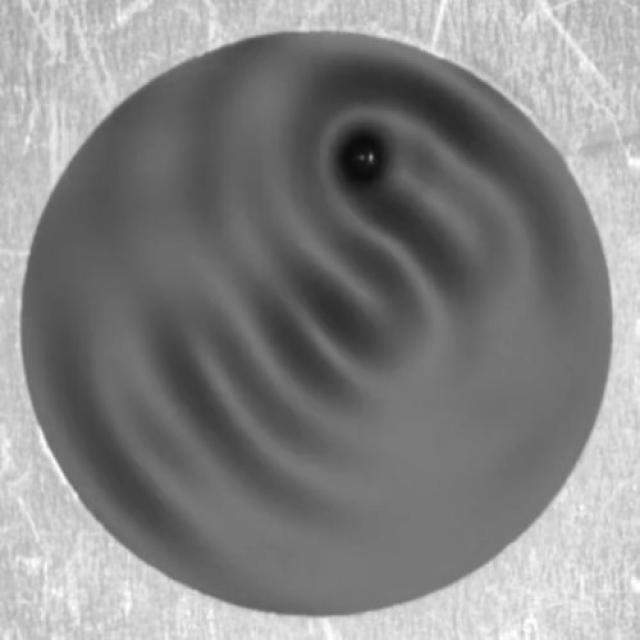droplet: (344, 136, 381, 186)
